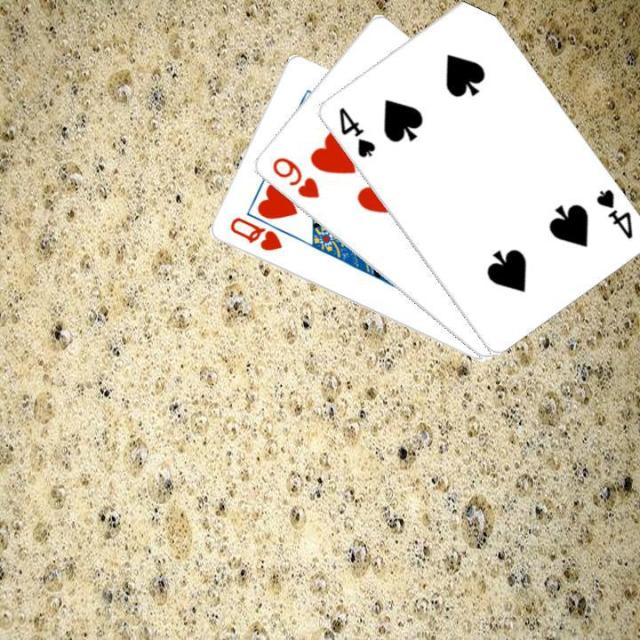4S: (591, 185, 635, 241), (334, 103, 377, 160)
9H: (267, 153, 321, 201)
QH: (225, 214, 283, 254)
